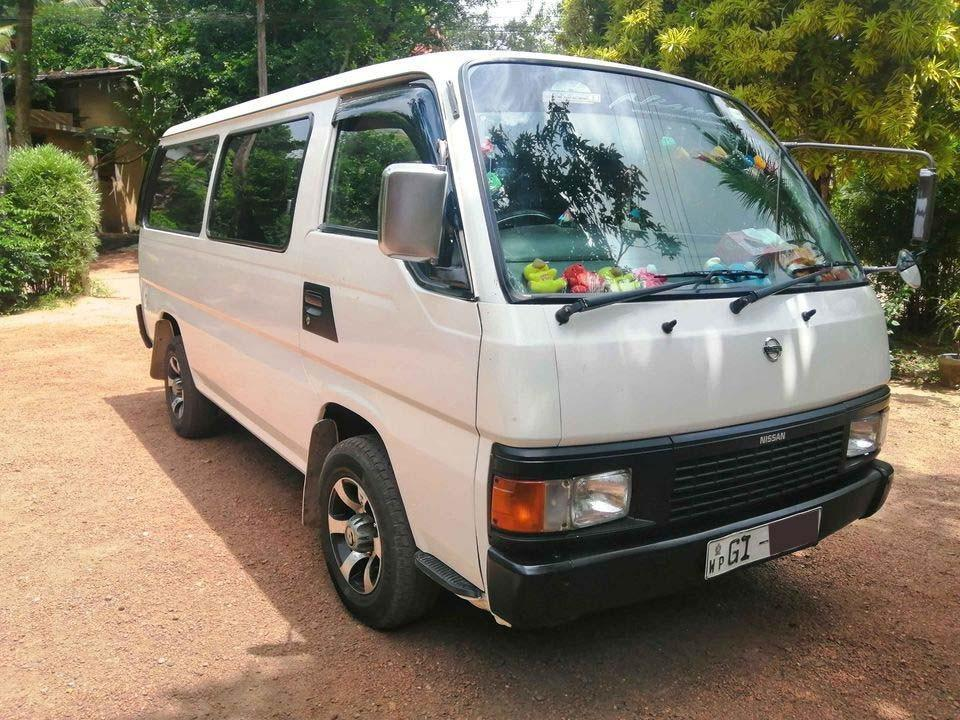van: (143, 44, 906, 606)
